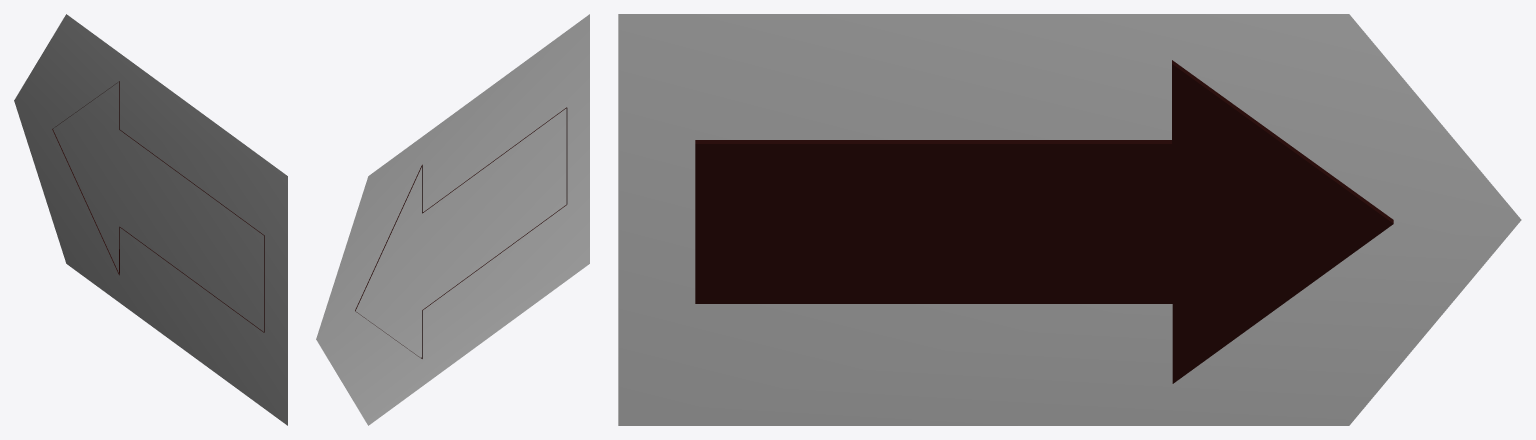
File: M_Mesh_W_O_Playground_Arrow_01.fbx
3 views of the same model, side by side, from view 1: azimuth 30°, elevation 25°; view 2: azimuth 150°, elevation 25°; view 3: azimuth 270°, elevation 25° (orthographic). The views are drawn at different scales.
Parts seen in each view (by area): view 1: M_Mesh_W_O_Playground_Arrow_00, M_Mesh_W_O_Playground_Arrow_01; view 2: M_Mesh_W_O_Playground_Arrow_00, M_Mesh_W_O_Playground_Arrow_01; view 3: M_Mesh_W_O_Playground_Arrow_00, M_Mesh_W_O_Playground_Arrow_01.
Boxes of the visible parts, bbox=[...] form: M_Mesh_W_O_Playground_Arrow_00: bbox=[14, 14, 287, 425]; M_Mesh_W_O_Playground_Arrow_01: bbox=[52, 81, 264, 332]; M_Mesh_W_O_Playground_Arrow_00: bbox=[316, 14, 589, 425]; M_Mesh_W_O_Playground_Arrow_01: bbox=[355, 107, 567, 358]; M_Mesh_W_O_Playground_Arrow_00: bbox=[618, 14, 1521, 425]; M_Mesh_W_O_Playground_Arrow_01: bbox=[695, 60, 1393, 383].
Bounding box in the file's own units: 0.0107 × 0.454 × 0.9022.
